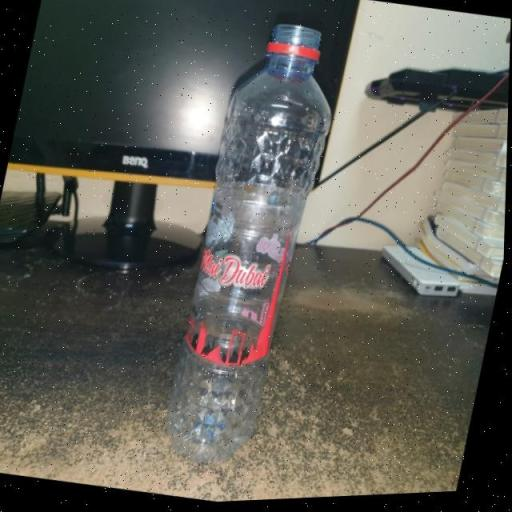plastic: (147, 12, 353, 481)
